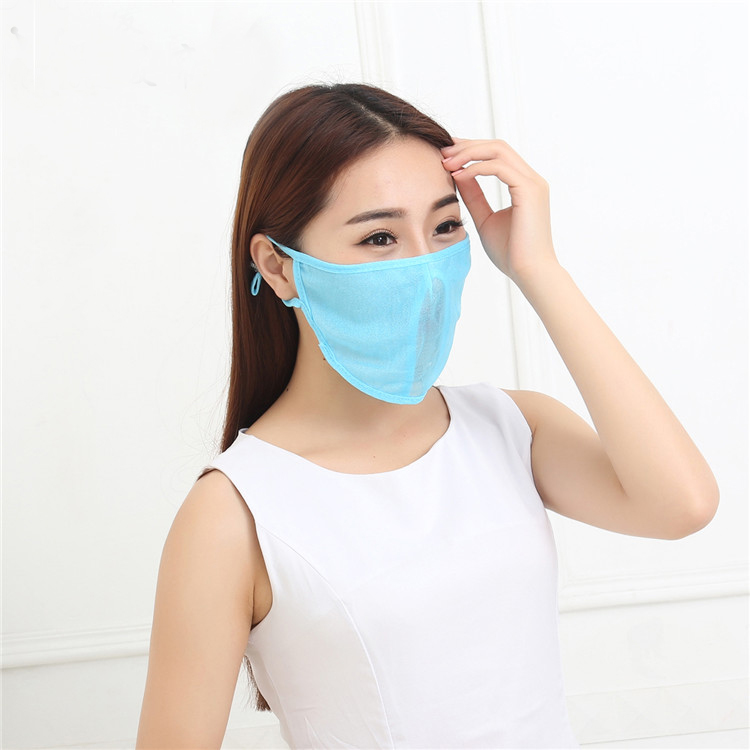face_mask: (315, 137, 474, 402)
